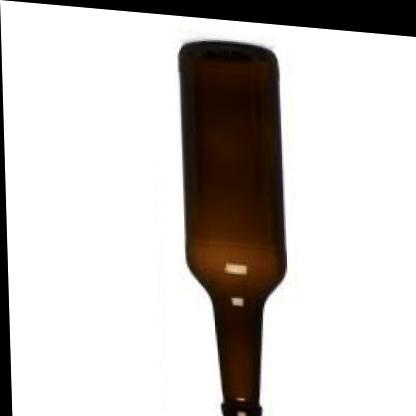trash: (179, 41, 285, 415)
